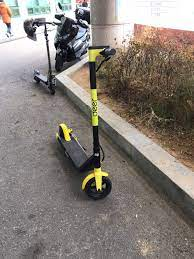kick_board: (56, 45, 116, 199), (30, 20, 62, 92)
kick_handler: (86, 46, 116, 58), (32, 19, 62, 29)
kick_neck: (90, 62, 100, 152), (43, 29, 52, 77)
kick_wheel: (82, 171, 110, 199), (55, 123, 66, 142)
